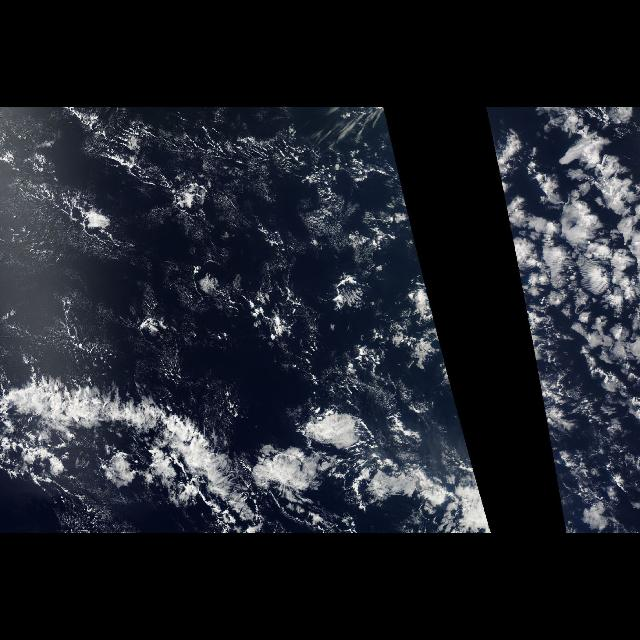Fish: (1, 362, 257, 530)
Flower: (249, 147, 465, 531), (488, 111, 640, 432)
Gravel: (1, 116, 387, 372)
Sugar: (4, 233, 178, 375), (210, 168, 350, 272)
